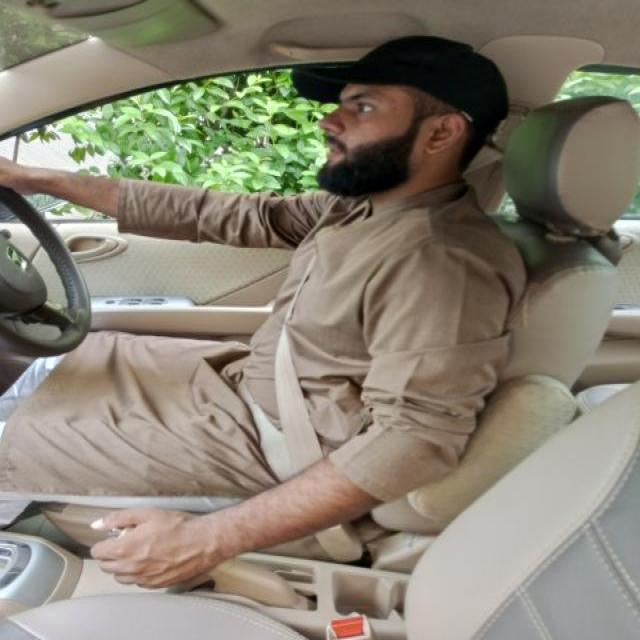seatbelt: (180, 189, 461, 571)
